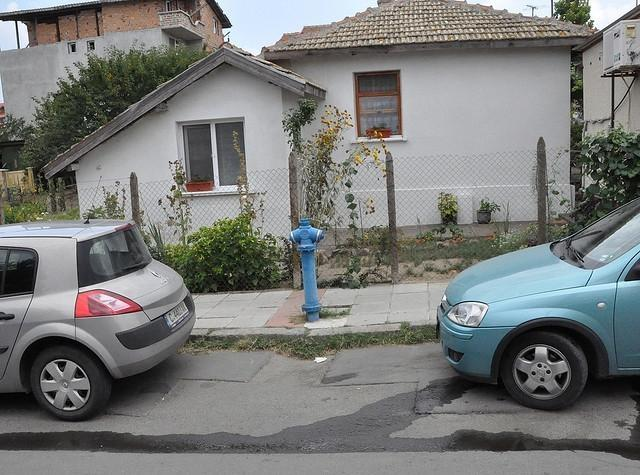car: (440, 196, 640, 406), (0, 219, 201, 426)
